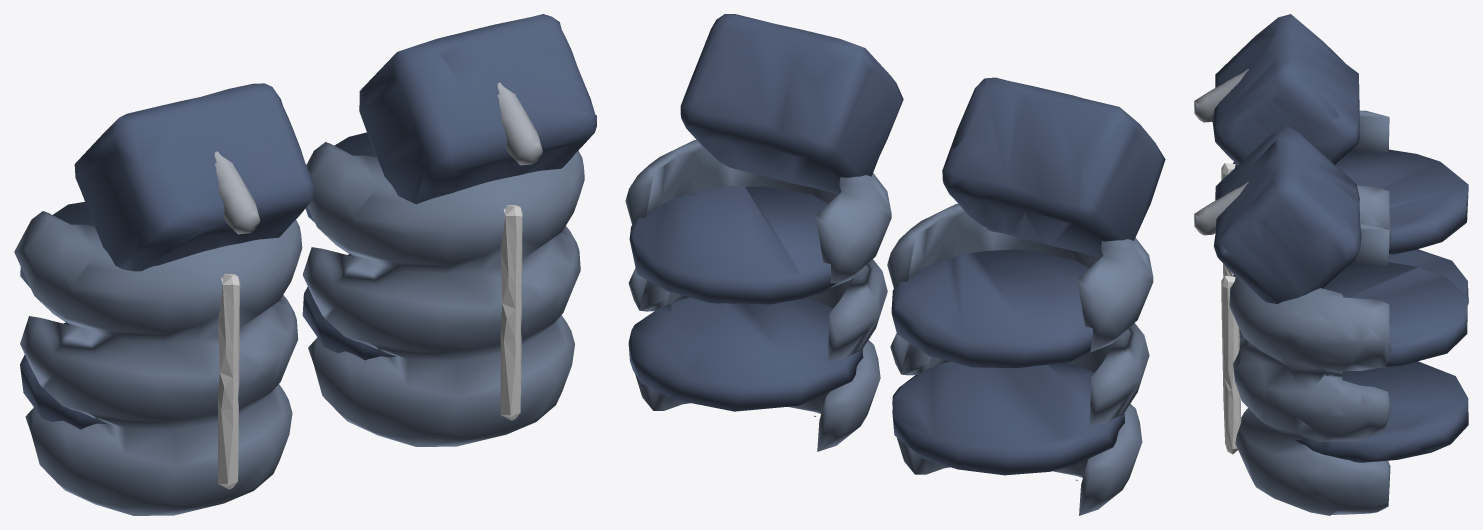
Rendered from gear_jambieres.glb.
The picture shows the model from 3 angles, left to right: view 1: azimuth 30°, elevation 25°; view 2: azimuth 150°, elevation 25°; view 3: azimuth 270°, elevation 25°; orthographic projection. The views are drawn at different scales.
Parts seen in each view (by area): view 1: leg_r__jambieres, leg_l__jambieres, leg_l__jambieres_glow, leg_r__jambieres_glow; view 2: leg_r__jambieres, leg_l__jambieres; view 3: leg_l__jambieres, leg_r__jambieres, leg_l__jambieres_glow.
Part boxes in pixels (box(x1,y1,x2,y2)): leg_r__jambieres: box(14, 83, 315, 515); leg_l__jambieres: box(302, 14, 596, 446); leg_l__jambieres_glow: box(500, 204, 522, 420); leg_r__jambieres_glow: box(218, 273, 240, 489); leg_r__jambieres: box(887, 77, 1165, 515); leg_l__jambieres: box(625, 14, 903, 451); leg_l__jambieres: box(1194, 126, 1468, 515); leg_r__jambieres: box(1194, 14, 1468, 340); leg_l__jambieres_glow: box(1221, 275, 1241, 454).
Size of the model in its own units: 0.3177 by 0.2327 by 0.1728.
